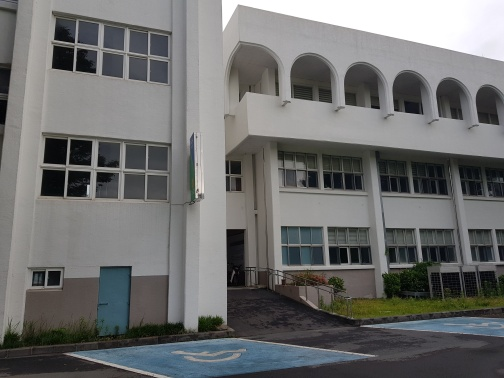Main Building of University: (5, 5, 495, 344), (274, 145, 465, 271), (286, 46, 478, 133)
